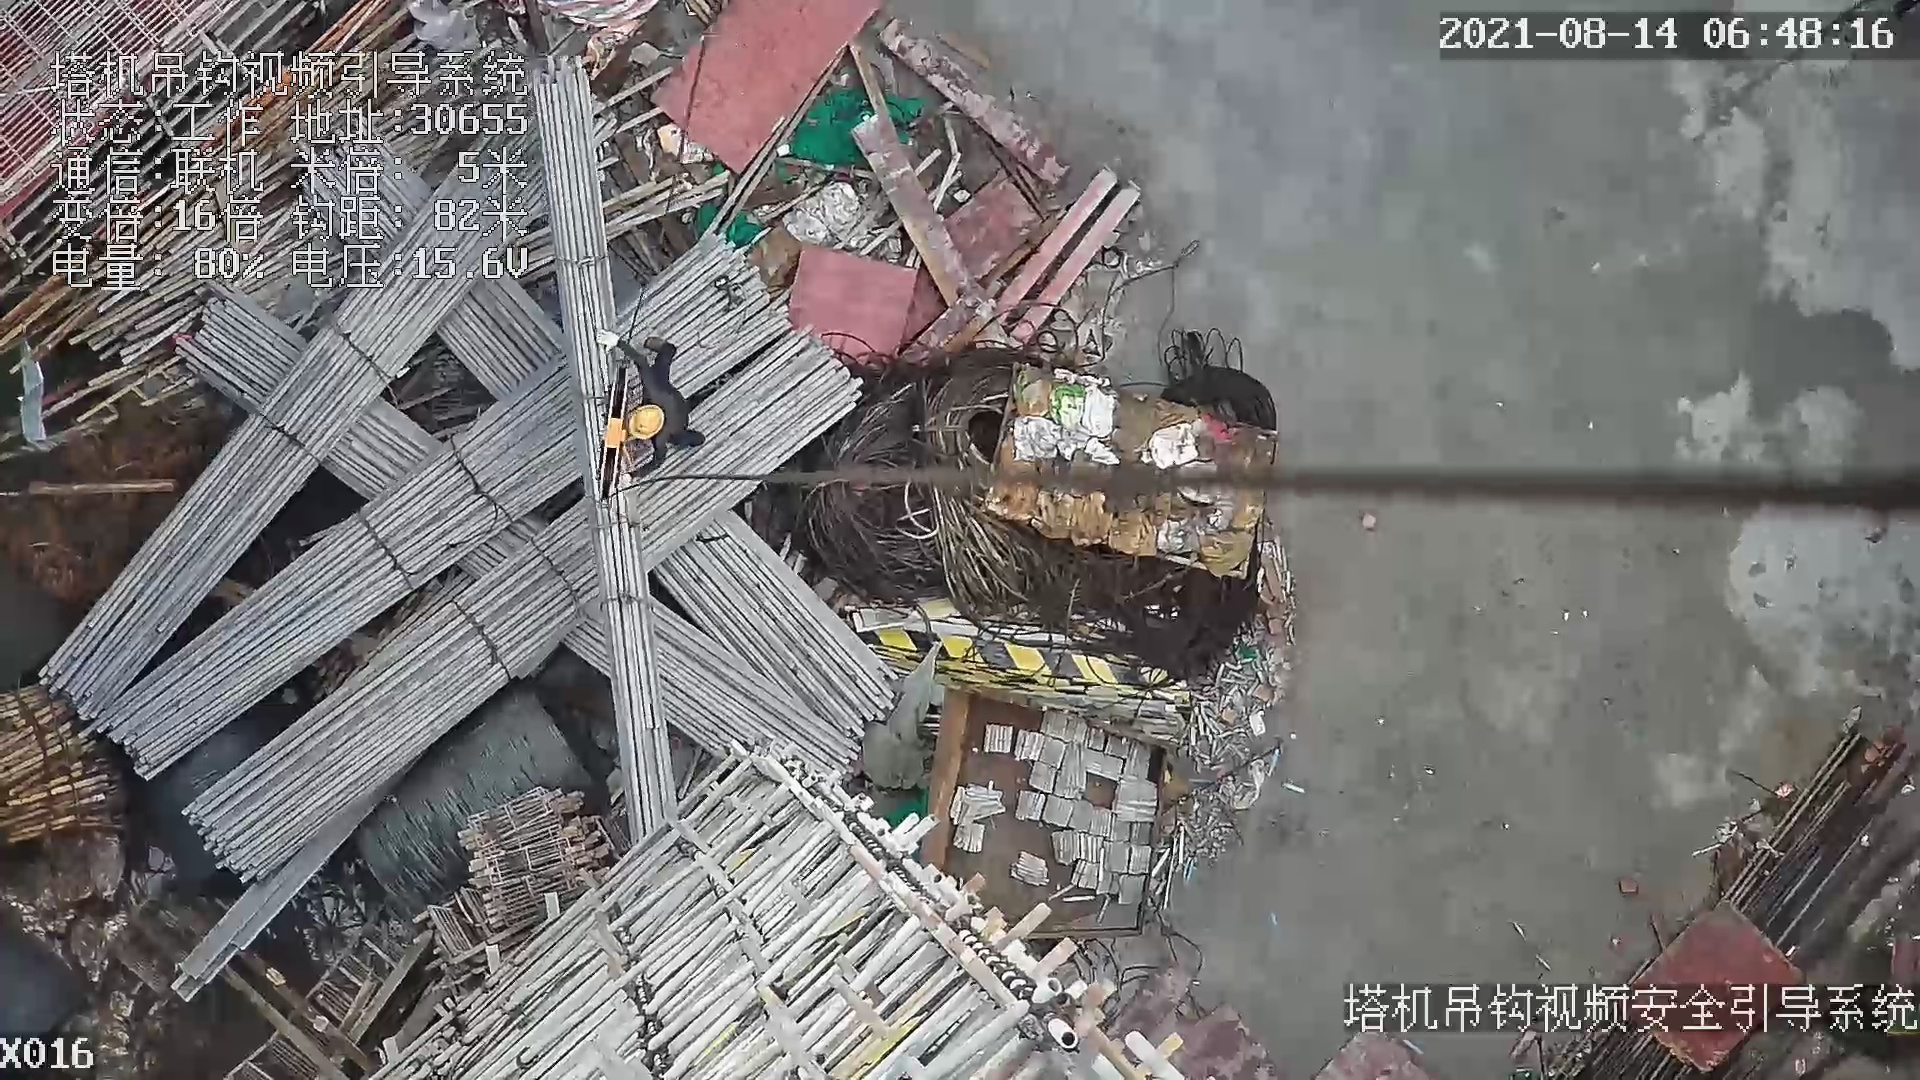board: (649, 1, 880, 175)
helmet: (629, 402, 666, 445)
hook: (596, 364, 624, 503)
person: (597, 315, 709, 492)
scaffold: (1, 665, 125, 843)
